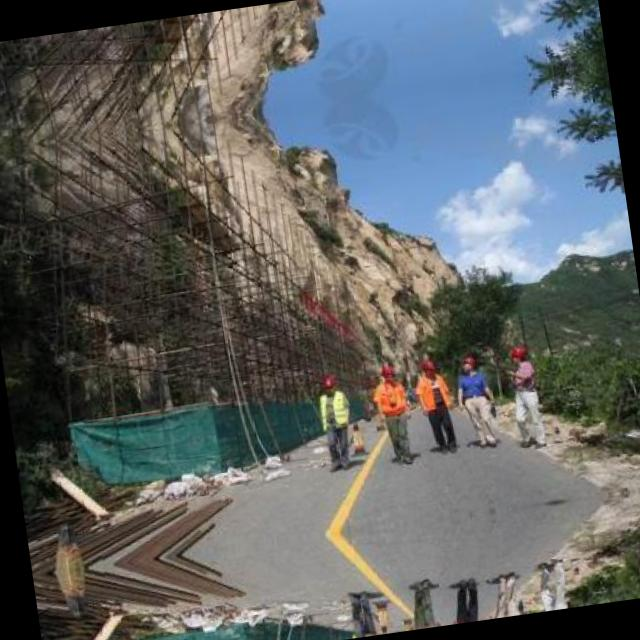helmet: (376, 361, 396, 385), (420, 356, 439, 381), (320, 373, 341, 395), (507, 342, 528, 364), (458, 349, 479, 370)
